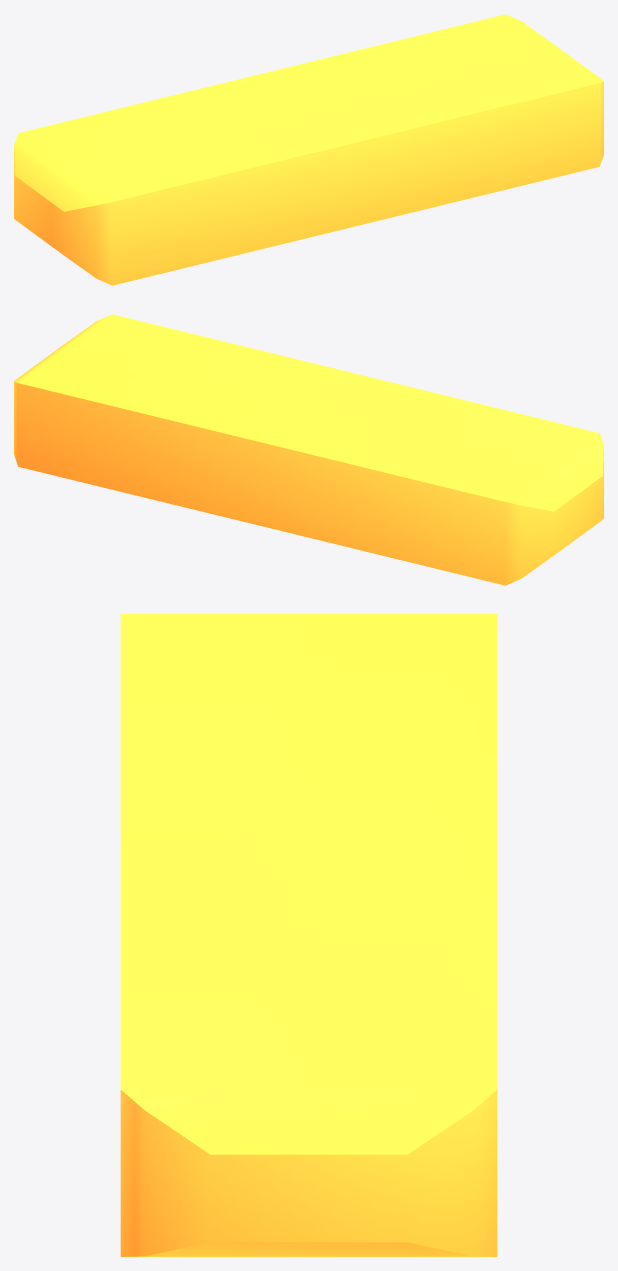
Rendered from gold_guard_018.glb.
The picture shows the model from 3 angles, top to bottom: view 1: azimuth 30°, elevation 25°; view 2: azimuth 150°, elevation 25°; view 3: azimuth 270°, elevation 25°; orthographic projection. The views are drawn at different scales.
Visible parts, largest first — view 1: gold_guard_018; view 2: gold_guard_018; view 3: gold_guard_018.
Boxes of the visible parts, x1,y1,x2,y2 form: gold_guard_018: [14, 14, 603, 285]; gold_guard_018: [14, 314, 603, 585]; gold_guard_018: [120, 614, 497, 1256].
Size of the model in its own units: 6.61 by 0.9809 by 2.
Materials: 1 (1 with a texture image).
